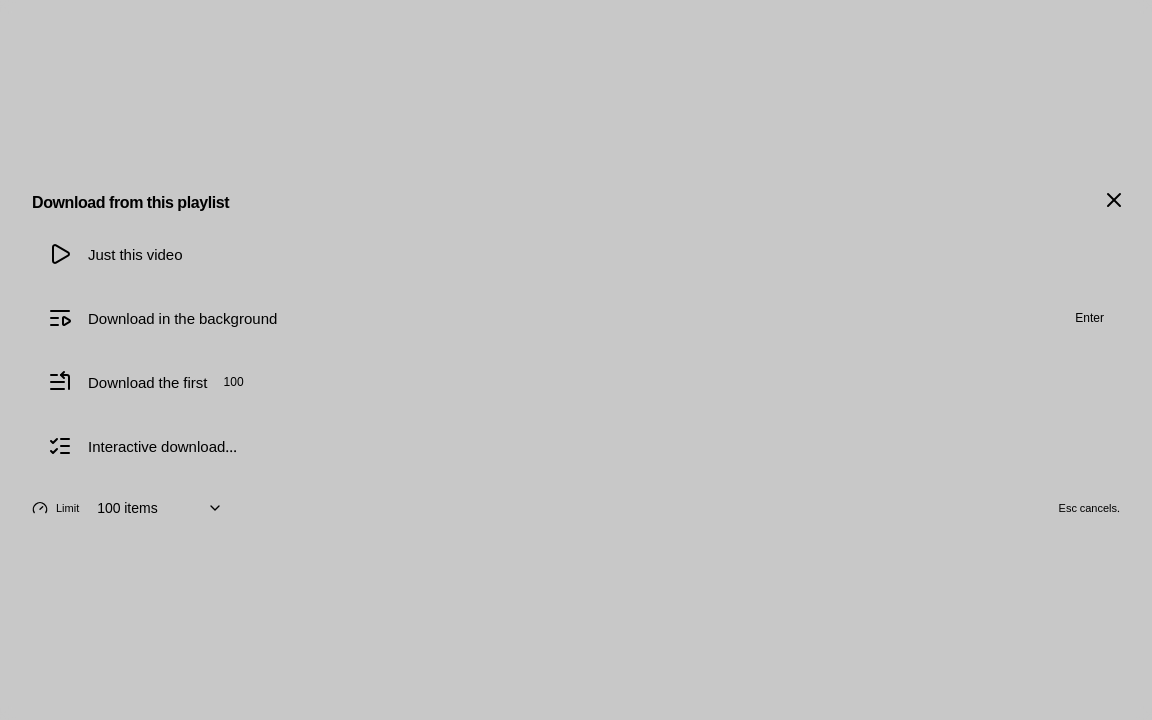
the video-in-a-list dialog › from the list button › uses the count the selector just saved
Later steps or results of the test are not shown.
Click the dropdown with test id "mixed-playlist-probe-limit-trigger": (159, 508) [87,490,231,526]
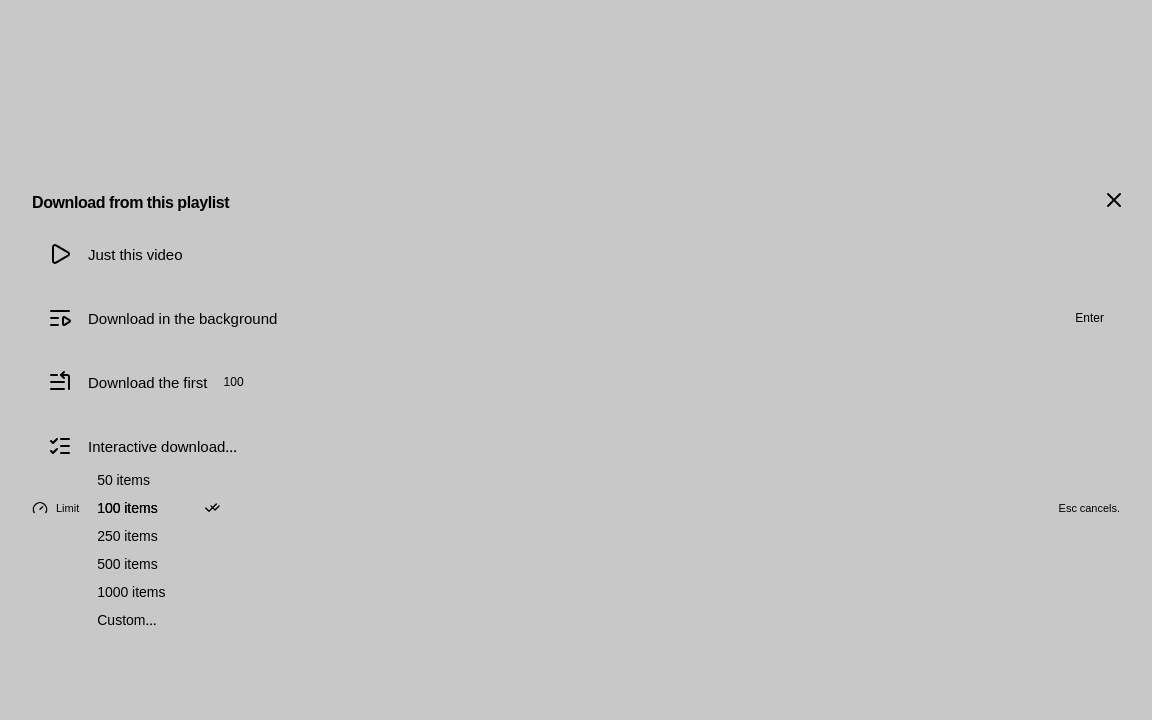
Click the option with test id "mixed-playlist-probe-limit-option-500": (127, 564) [97,554,158,573]
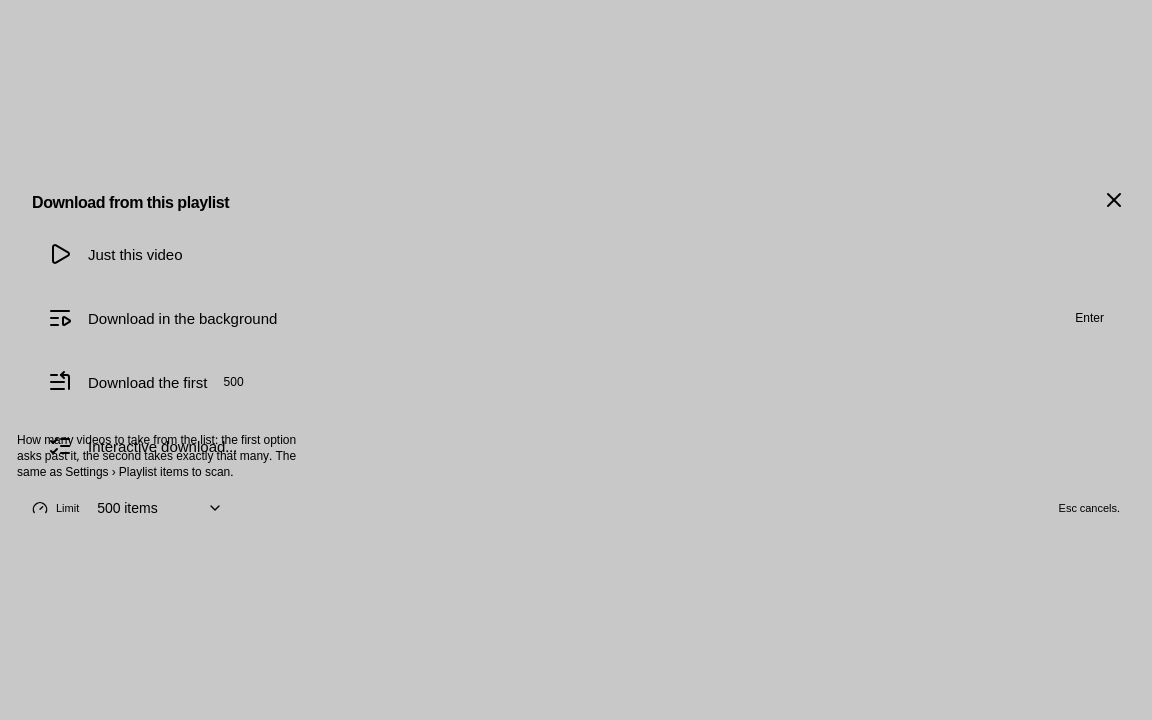
Result: the icon with test id "mixed-first-count" reads "500" at [224,373,244,390]
